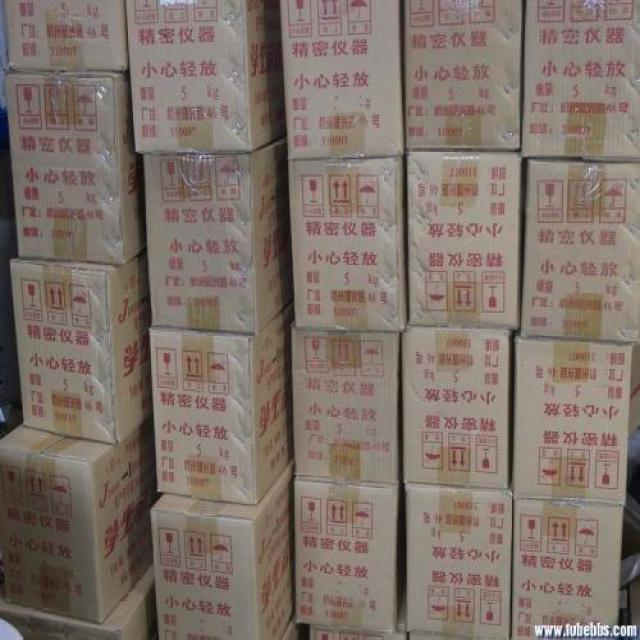box: (0, 416, 160, 625), (142, 314, 302, 506), (136, 149, 296, 338), (5, 61, 150, 266), (9, 252, 160, 444), (127, 0, 292, 162), (154, 454, 297, 640), (281, 149, 410, 334), (511, 324, 640, 499), (519, 152, 640, 338), (408, 142, 526, 332), (399, 319, 516, 494), (516, 0, 640, 165), (286, 316, 404, 488), (283, 0, 407, 161), (290, 472, 406, 638), (401, 0, 526, 151), (400, 475, 514, 640), (510, 492, 626, 640), (2, 0, 131, 75)
